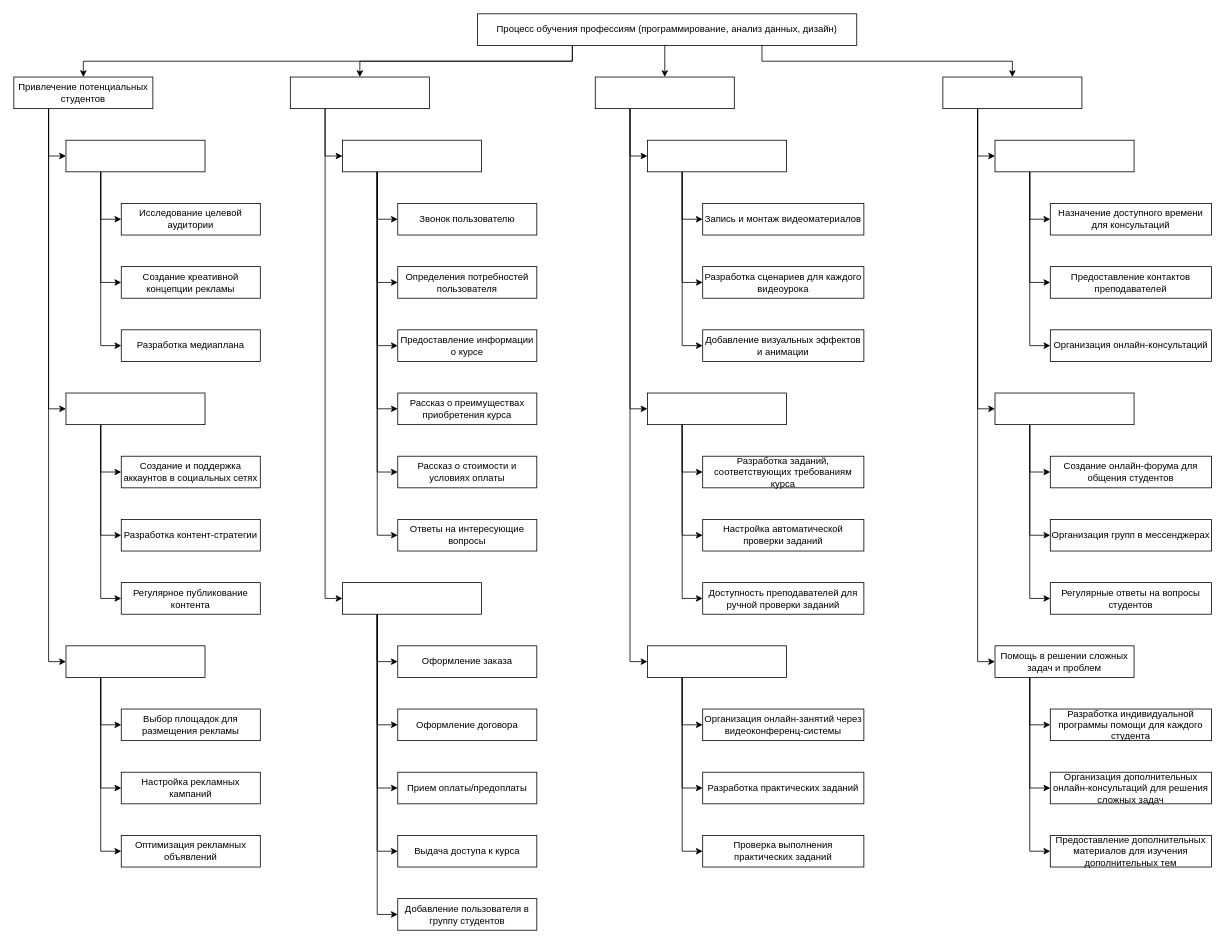
The diagram is 1225 pixels wide and 944 high, and some of its shapes have lost their labels. The box of each missing label's shape, as (x1, y1, x2, y2) in pixels:
Выбор курса и оплата: (290, 76, 429, 109)
Выдача заданий: (647, 392, 786, 425)
Доступность преподавателей для консультаций: (994, 139, 1134, 172)
Использование интернет-рекламы: (65, 645, 205, 677)
Консультации и поддержка в процессе обучения: (942, 76, 1082, 109)
Консультация по выбору курса: (342, 139, 482, 172)
Онлайн-коммуникация со студентами: (994, 392, 1134, 425)
Предоставление видеоуроков: (647, 139, 786, 172)
Предоставление учебных материалов: (594, 76, 734, 109)
Проведение практических занятий: (647, 645, 786, 677)
Продажа курса: (342, 582, 482, 614)
Продвижение в социальных сетях: (65, 392, 205, 425)
Создание рекламных кампаний: (65, 139, 205, 172)
